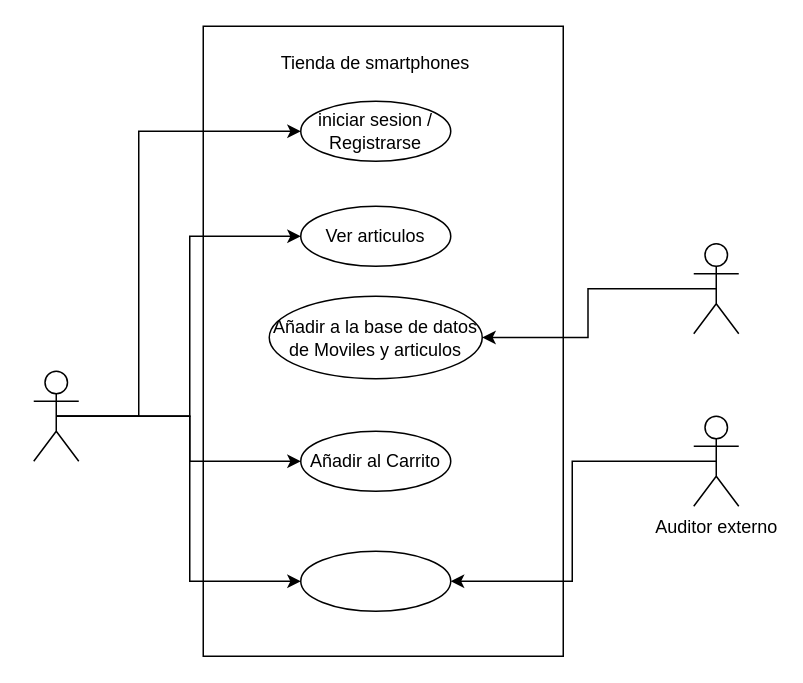
Image size: 803x683. Some labels were removed from this diagram. Each missing label, with the centre of its shape:
pago de articulos: point (375, 580)
Técnico: point (715, 288)
Usuario: point (55, 415)
